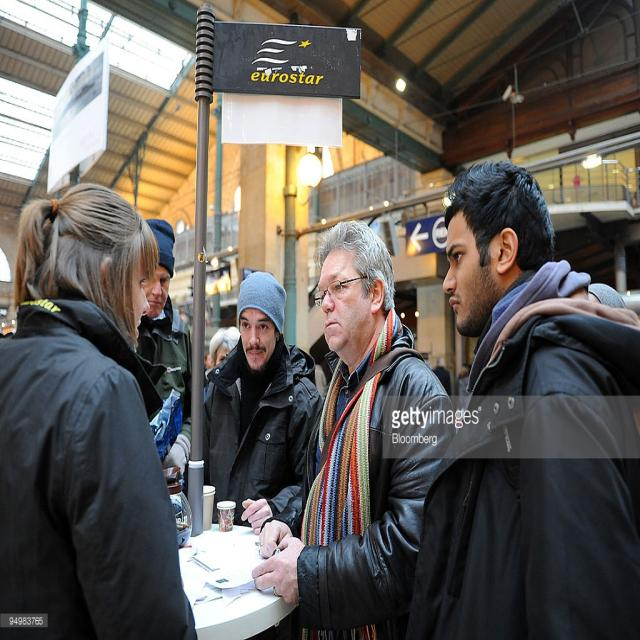body: (405, 155, 639, 639), (0, 177, 202, 639), (248, 215, 464, 639), (202, 269, 326, 538), (138, 218, 196, 484), (172, 309, 239, 374), (431, 351, 475, 403), (630, 188, 640, 206)
